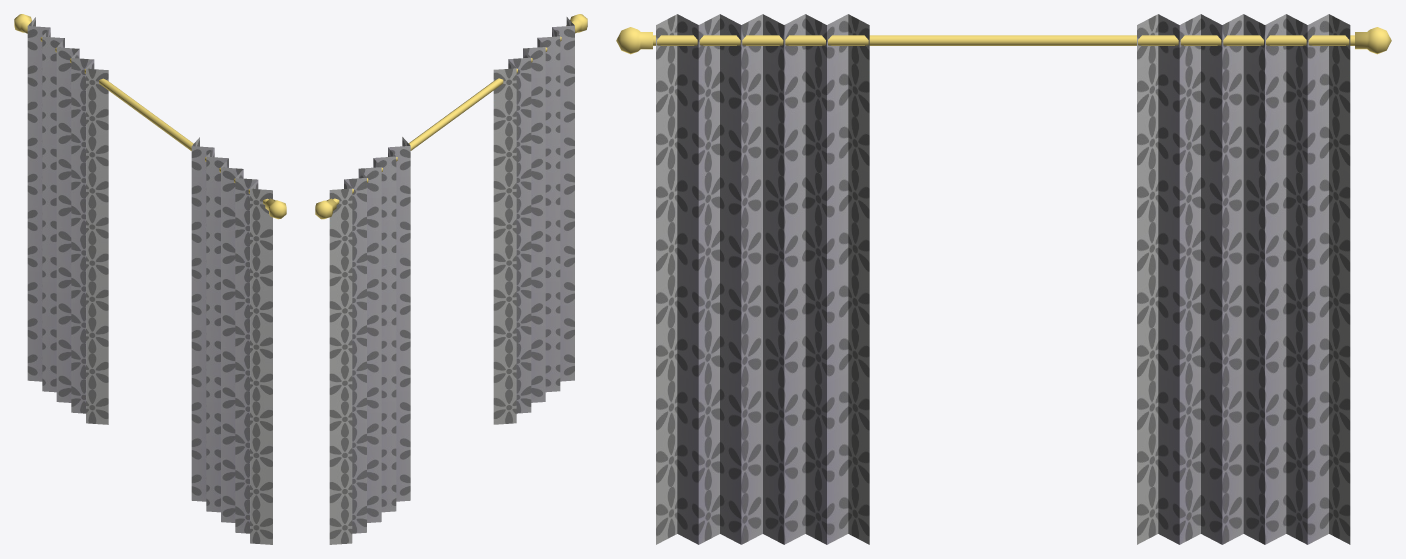
File: M_Hordeng.fbx
3 renders of one model, left to right at view 1: azimuth 30°, elevation 25°; view 2: azimuth 150°, elevation 25°; view 3: azimuth 270°, elevation 25°, orthographic. The views are drawn at different scales.
Visible parts, largest first — view 1: Tiang hordeng; view 2: Tiang hordeng; view 3: Tiang hordeng.
Part boxes in pixels (bbox=[...]): Tiang hordeng: bbox=[14, 14, 286, 544]; Tiang hordeng: bbox=[315, 14, 587, 544]; Tiang hordeng: bbox=[616, 14, 1391, 544].
Bounding box in the file's own units: 13.35 × 230 × 311.
